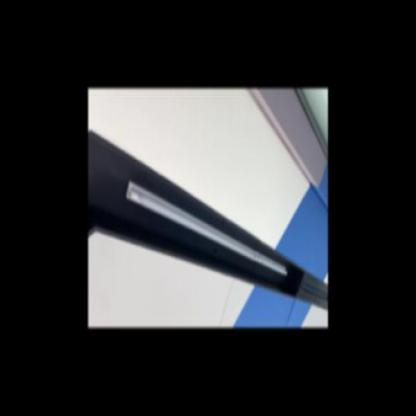light_off: (122, 162, 290, 283)
